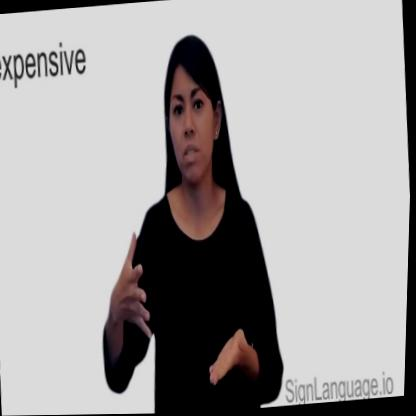Expensive: (92, 208, 268, 415)
